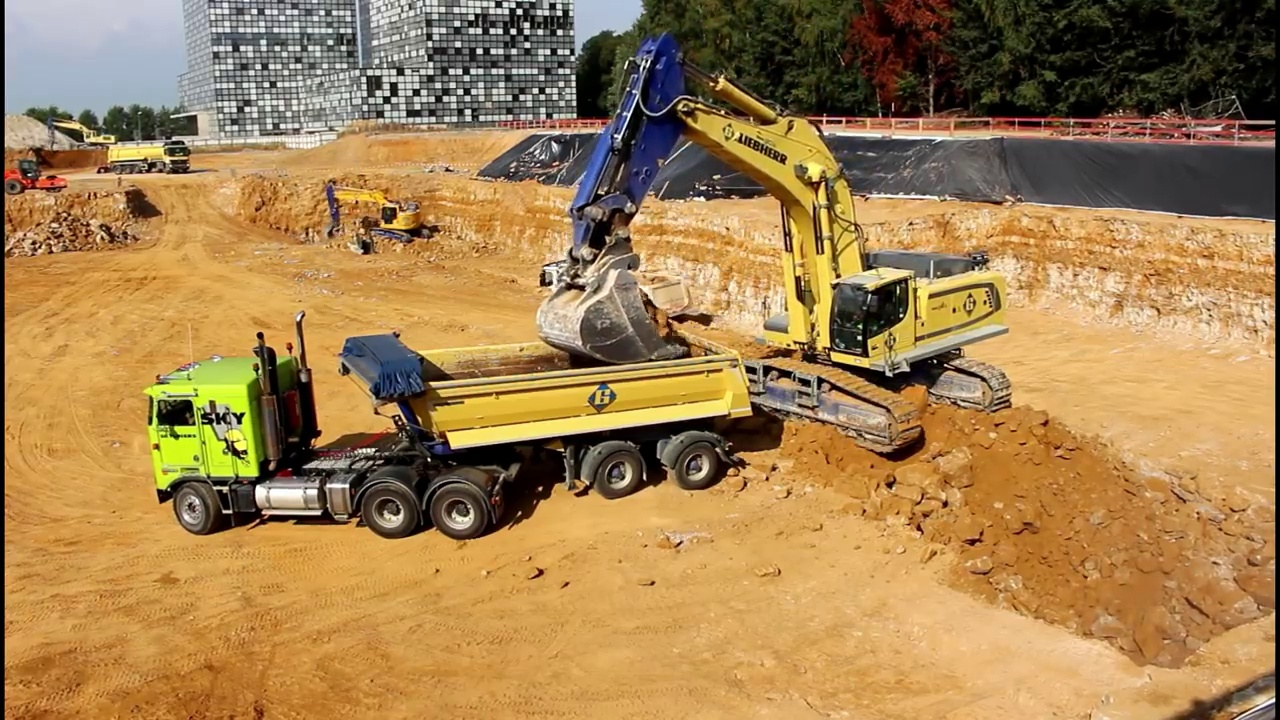compactor: (4, 158, 73, 196)
excavator: (532, 24, 1021, 464), (319, 181, 439, 258), (45, 112, 123, 155)
truck: (139, 303, 757, 544), (105, 134, 194, 182)
